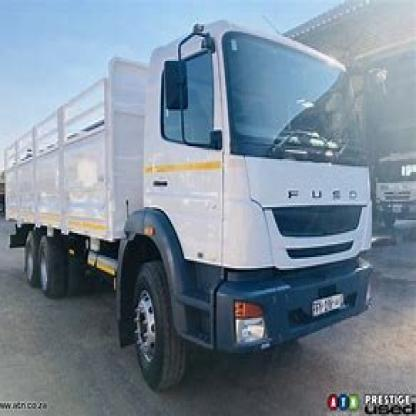dump_truck: (5, 26, 388, 396)
